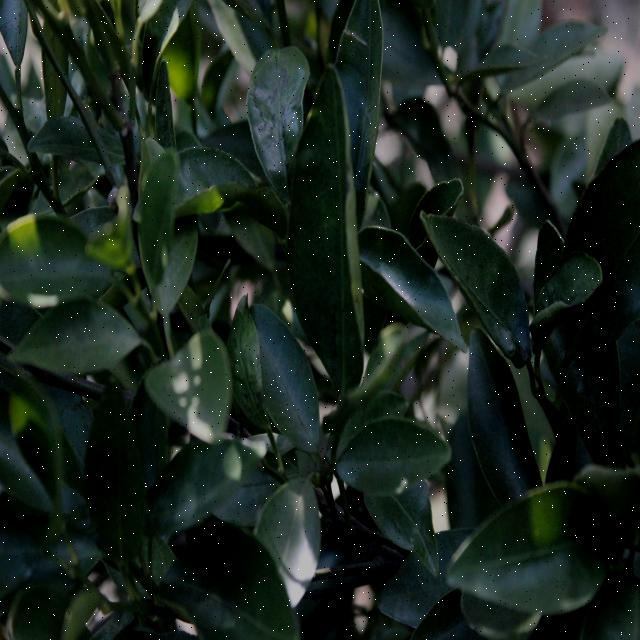melanose: (290, 118, 372, 400), (222, 305, 279, 461)
